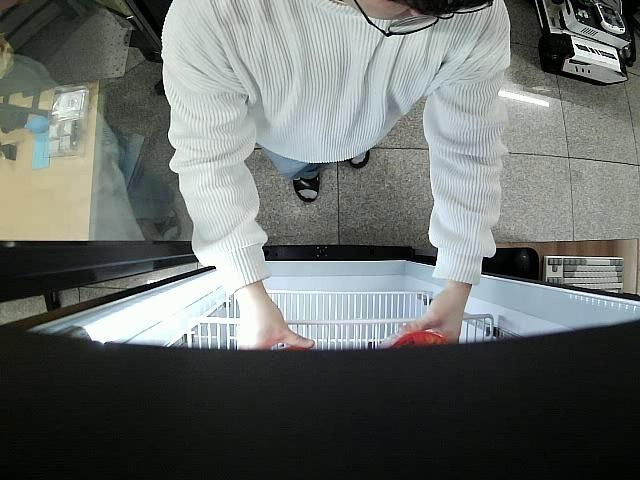01_ShinRamen_L: (382, 331, 453, 350)
